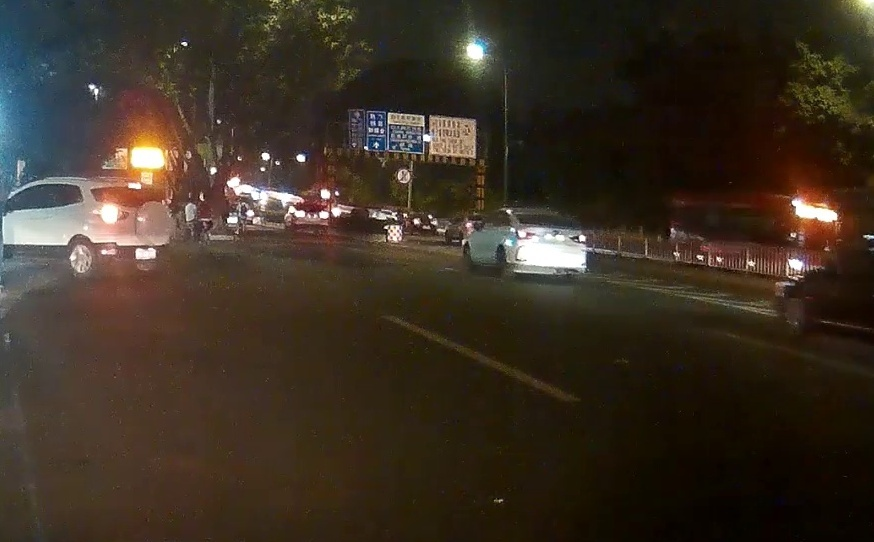L_light: (515, 230, 536, 240)
R_light: (569, 234, 585, 244)
T_light: (537, 213, 550, 216)
night-no: (506, 208, 586, 280)
